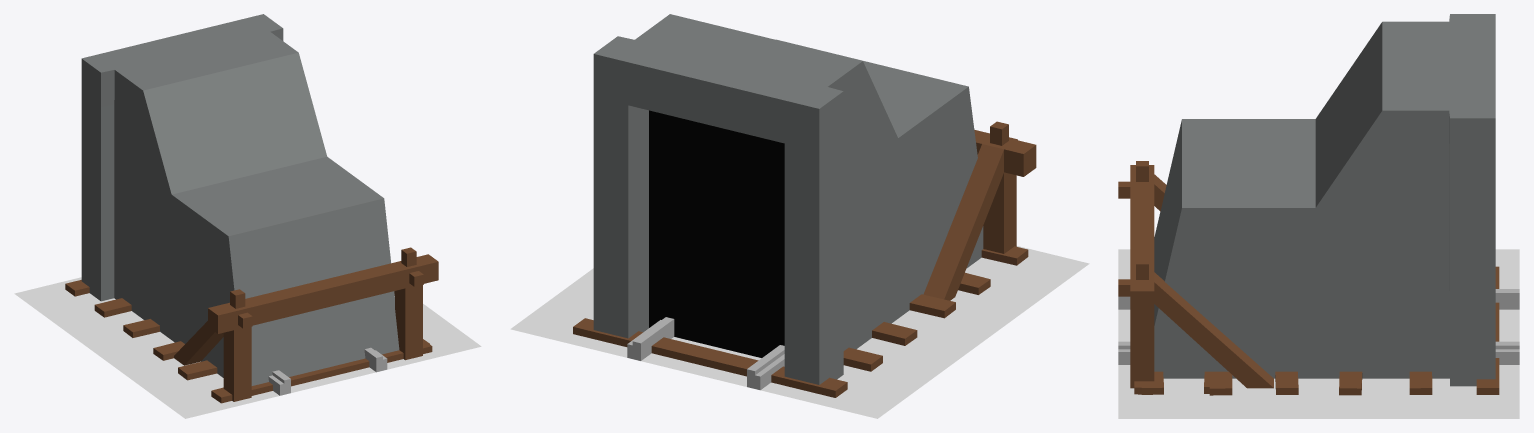
File: rail-end.glb
The picture shows the model from 3 angles, left to right: view 1: azimuth 30°, elevation 25°; view 2: azimuth 150°, elevation 25°; view 3: azimuth 270°, elevation 25°; orthographic projection. The views are drawn at different scales.
Visible parts, largest first — view 1: entrance, rail-end, Plane, rail-straight; view 2: entrance, Plane, rail-end, rail-straight; view 3: entrance, Plane, rail-end, rail-straight.
Boxes of the visible parts, x1,y1,x2,y2 form: entrance: [81, 14, 399, 385]; rail-end: [174, 247, 438, 403]; Plane: [14, 277, 481, 418]; rail-straight: [65, 280, 429, 401]; entrance: [593, 14, 983, 389]; Plane: [510, 246, 1089, 418]; rail-end: [923, 121, 1036, 300]; rail-straight: [573, 247, 1027, 397]; entrance: [1154, 14, 1519, 386]; Plane: [1118, 249, 1519, 418]; rail-end: [1118, 161, 1273, 395]; rail-straight: [1118, 266, 1519, 395].
Bounding box in the file's own units: 1 × 0.7369 × 1.
